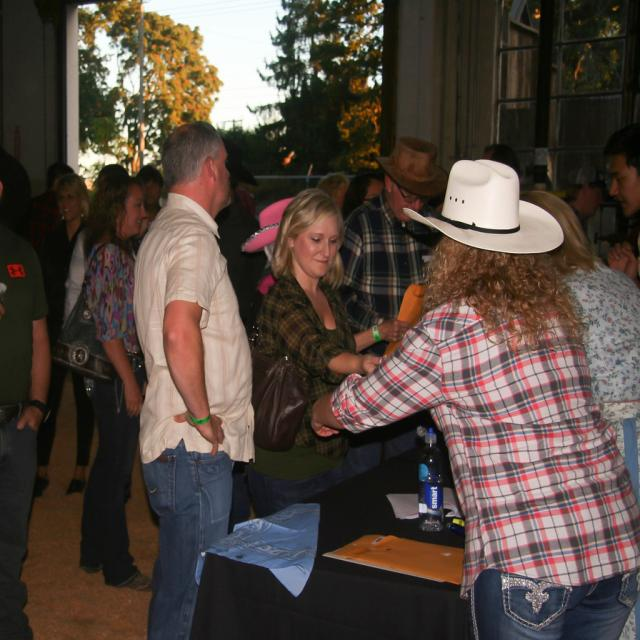Hat: (402, 152, 564, 255), (375, 136, 448, 203)
